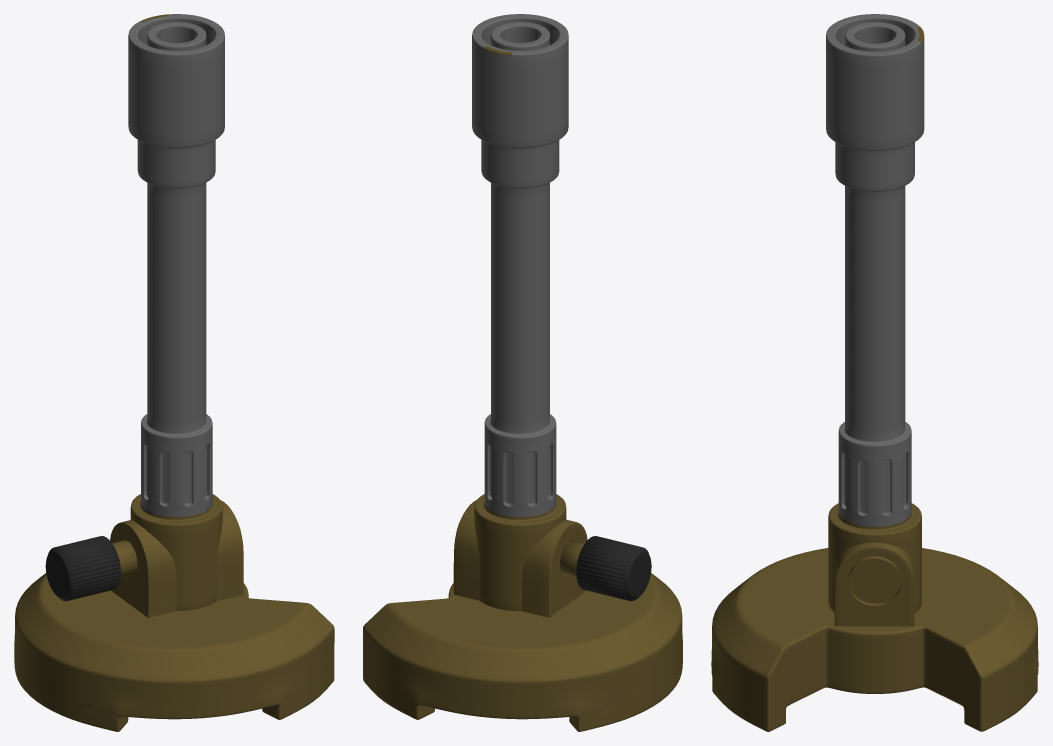
Rendered from Burner.fbx.
The picture shows the model from 3 angles, left to right: view 1: azimuth 30°, elevation 25°; view 2: azimuth 150°, elevation 25°; view 3: azimuth 270°, elevation 25°; orthographic projection.
Parts seen in each view (by area): view 1: Burner_Bottom, Burner_Top, Burner_Weel; view 2: Burner_Bottom, Burner_Top, Burner_Weel; view 3: Burner_Bottom, Burner_Top.
Part boxes in pixels (<box>): Burner_Bottom: <box>14,14,334,731</box>; Burner_Top: <box>128,14,224,517</box>; Burner_Weel: <box>45,536,120,601</box>; Burner_Bottom: <box>363,46,682,731</box>; Burner_Top: <box>472,14,568,517</box>; Burner_Weel: <box>576,536,651,601</box>; Burner_Bottom: <box>711,27,1038,731</box>; Burner_Top: <box>826,14,924,526</box>.
Size of the model in its own units: 6.49 by 16.01 by 7.35.
